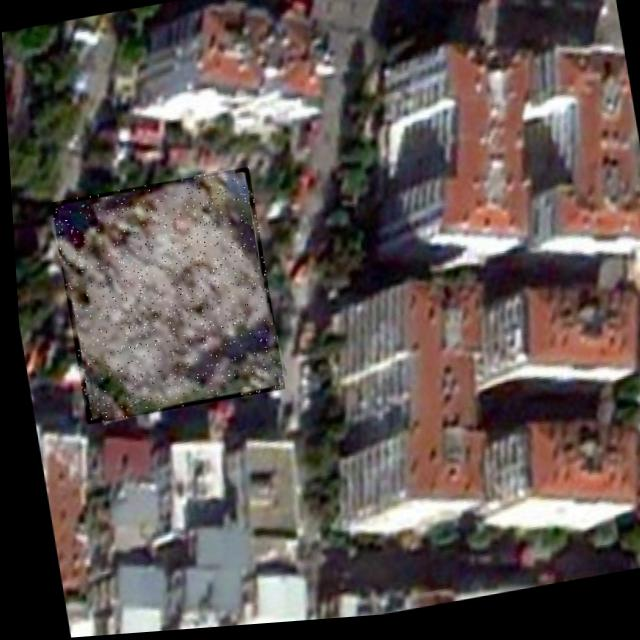Rubble: (46, 169, 279, 427)
